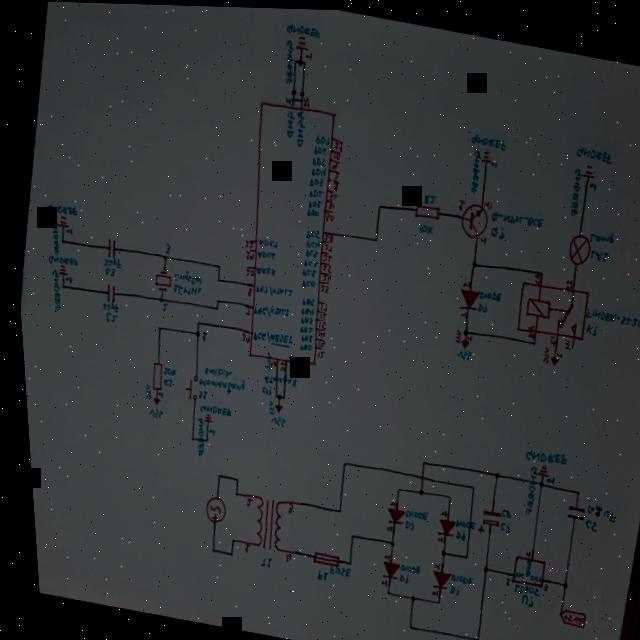capacitor: (467, 505, 494, 534), (557, 501, 578, 518), (99, 281, 113, 304), (101, 237, 114, 258)
crossover: (412, 471, 418, 478)
diode: (452, 284, 477, 309), (420, 567, 444, 588), (425, 517, 447, 539), (374, 500, 396, 522), (371, 557, 393, 578)
ground: (578, 160, 595, 178), (293, 32, 309, 51), (477, 146, 491, 161), (529, 460, 543, 475), (54, 215, 66, 228), (52, 263, 64, 276), (196, 411, 207, 422)
junction: (465, 256, 473, 266), (552, 578, 560, 587), (431, 545, 438, 555), (473, 562, 480, 571), (401, 591, 408, 600), (372, 199, 379, 208), (530, 476, 537, 485), (410, 485, 417, 493), (486, 467, 492, 476), (381, 537, 387, 546), (296, 56, 302, 65), (151, 323, 157, 331), (388, 483, 394, 491), (398, 620, 404, 628), (426, 595, 432, 603), (455, 550, 461, 558), (465, 633, 471, 640), (341, 530, 347, 537), (413, 456, 419, 463), (226, 489, 232, 496), (463, 481, 469, 488), (376, 587, 382, 594), (439, 491, 445, 498), (338, 557, 344, 564), (457, 326, 463, 333), (189, 330, 195, 337), (153, 295, 159, 302), (335, 458, 340, 466), (209, 303, 214, 311), (534, 267, 540, 273), (209, 471, 214, 478), (211, 275, 216, 282), (220, 549, 225, 556), (369, 234, 374, 241), (568, 485, 573, 492), (329, 505, 334, 512), (202, 546, 207, 553), (212, 261, 217, 268), (222, 536, 227, 543), (227, 474, 232, 481), (210, 296, 215, 303), (158, 253, 163, 260), (271, 391, 276, 398), (190, 318, 195, 325), (56, 283, 61, 289), (197, 436, 202, 442), (526, 336, 531, 342), (276, 392, 280, 399), (183, 435, 188, 440), (301, 58, 305, 64), (56, 238, 60, 243), (289, 95, 293, 100), (292, 56, 295, 62), (298, 97, 301, 101), (268, 392, 271, 396)
resistor: (409, 199, 438, 220), (143, 359, 160, 390)
source: (195, 493, 221, 525), (544, 350, 555, 363), (454, 335, 465, 346), (267, 401, 277, 411), (145, 395, 155, 404)
switch: (176, 371, 195, 400)
terminal: (547, 604, 578, 625)
text: (579, 301, 640, 329), (191, 369, 240, 396), (487, 205, 542, 228), (563, 162, 583, 214), (514, 461, 534, 513), (517, 443, 562, 464), (41, 268, 62, 312), (246, 326, 289, 347), (278, 36, 297, 81), (464, 146, 481, 193), (572, 140, 611, 160), (467, 129, 505, 149), (247, 299, 285, 319), (185, 414, 203, 456), (250, 280, 289, 299), (284, 19, 321, 38), (256, 368, 292, 387), (577, 500, 610, 520), (195, 361, 229, 379), (167, 266, 199, 285), (43, 220, 59, 257), (290, 109, 306, 145), (41, 201, 74, 218), (166, 280, 198, 297), (192, 401, 226, 417), (584, 224, 611, 243), (42, 252, 74, 268), (439, 568, 466, 584), (472, 284, 499, 300), (396, 504, 421, 520), (504, 580, 532, 594), (281, 109, 294, 138), (585, 244, 606, 260), (98, 253, 119, 269), (320, 562, 343, 576), (95, 297, 115, 313), (250, 262, 272, 276), (446, 514, 468, 528), (390, 559, 413, 572), (553, 609, 575, 622), (413, 218, 432, 233), (252, 246, 272, 260), (279, 351, 290, 376), (485, 221, 502, 237), (141, 405, 158, 420), (253, 235, 275, 246), (450, 345, 467, 359), (262, 413, 280, 426), (136, 380, 148, 399), (306, 565, 321, 580), (510, 590, 526, 604), (307, 162, 323, 176), (304, 185, 321, 198), (250, 553, 264, 568), (419, 189, 434, 203), (575, 514, 590, 528), (257, 350, 267, 371), (579, 319, 594, 333), (535, 342, 546, 361), (301, 236, 317, 249), (515, 555, 525, 575), (156, 364, 171, 377), (297, 265, 313, 277), (301, 226, 317, 238), (305, 174, 321, 186), (308, 153, 324, 165), (312, 132, 328, 144), (521, 319, 532, 336), (446, 525, 459, 539), (300, 245, 314, 258), (528, 267, 538, 285), (298, 257, 316, 267), (296, 293, 311, 305), (295, 303, 310, 315), (260, 397, 270, 414), (439, 581, 452, 594), (471, 298, 484, 311), (491, 517, 503, 531), (99, 310, 113, 322), (294, 330, 308, 342), (296, 276, 311, 287), (304, 196, 319, 207), (395, 515, 407, 528), (99, 264, 111, 277), (311, 142, 324, 154), (295, 312, 308, 324), (302, 205, 316, 216), (294, 322, 308, 333), (293, 340, 307, 351), (448, 324, 457, 341), (585, 176, 596, 189), (158, 240, 168, 254), (389, 570, 401, 581), (493, 504, 504, 516), (191, 387, 202, 399), (254, 383, 266, 394), (156, 376, 168, 387), (193, 328, 203, 341), (559, 274, 569, 287), (300, 93, 310, 106), (331, 137, 341, 150), (520, 569, 533, 579), (240, 237, 251, 248), (240, 248, 250, 260), (272, 358, 281, 371), (454, 195, 462, 209), (321, 209, 331, 220), (325, 189, 335, 200), (235, 331, 245, 342), (278, 501, 287, 513), (311, 336, 321, 346), (317, 271, 327, 281), (282, 92, 291, 103), (538, 472, 549, 481), (315, 281, 324, 292), (317, 262, 328, 271), (317, 251, 328, 260), (319, 231, 330, 240), (558, 336, 567, 347), (480, 196, 489, 207), (495, 573, 503, 585), (329, 178, 337, 190), (543, 331, 551, 343), (313, 318, 322, 328), (314, 300, 324, 309), (319, 241, 329, 250), (200, 425, 209, 435), (457, 276, 466, 286), (506, 567, 516, 576), (235, 541, 243, 552), (312, 326, 320, 337), (303, 48, 311, 59), (475, 232, 483, 243), (328, 157, 335, 169), (380, 497, 389, 506), (59, 275, 68, 284), (241, 266, 250, 275), (311, 348, 320, 357), (371, 575, 379, 585), (330, 149, 338, 159), (156, 301, 164, 311), (276, 550, 283, 561), (237, 495, 244, 506), (377, 522, 385, 531), (424, 559, 432, 568), (427, 532, 435, 541), (432, 506, 440, 515), (61, 226, 69, 235), (314, 309, 322, 318), (324, 199, 332, 208), (487, 156, 495, 165), (330, 168, 337, 178), (455, 307, 462, 317), (242, 285, 248, 296), (374, 550, 382, 558), (263, 358, 271, 366), (460, 331, 468, 339), (422, 585, 429, 594), (516, 546, 523, 555), (150, 389, 157, 398), (239, 304, 245, 314), (550, 347, 557, 355), (534, 580, 540, 589)
transformer: (236, 491, 284, 555)
transistor: (454, 197, 487, 239)
